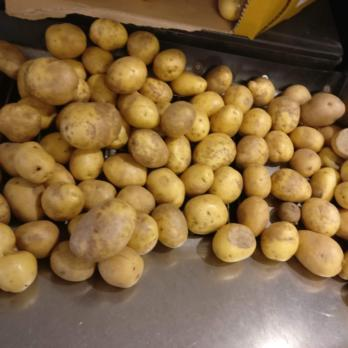Solid potato: (29, 20, 200, 292), (202, 60, 348, 272), (1, 38, 38, 292)
